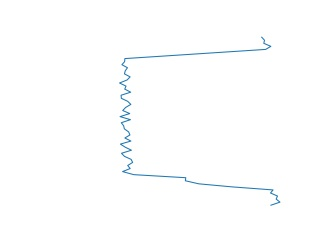distributaryChannelFill: (116, 35, 285, 209)
